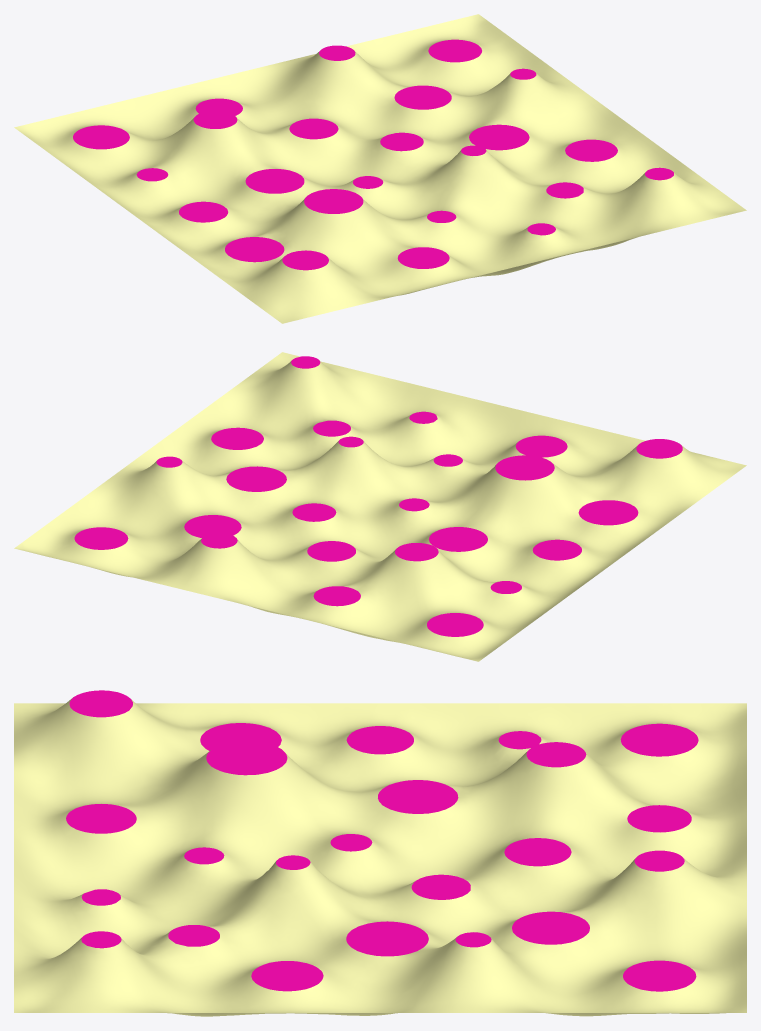
Rendered from Roof_01.fbx.
The picture shows the model from 3 angles, top to bottom: view 1: azimuth 30°, elevation 25°; view 2: azimuth 150°, elevation 25°; view 3: azimuth 270°, elevation 25°; orthographic projection. The views are drawn at different scales.
Parts seen in each view (by area): view 1: Roof_v1; view 2: Roof_v1; view 3: Roof_v1.
Boxes of the visible parts, x1,y1,x2,y2 form: Roof_v1: (14, 14, 746, 323); Roof_v1: (14, 352, 746, 661); Roof_v1: (14, 690, 746, 1016).
Size of the model in its own units: 5 by 0.5169 by 5.
